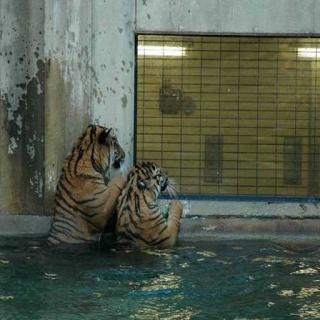Tiger: (51, 102, 116, 272), (114, 155, 188, 251)
